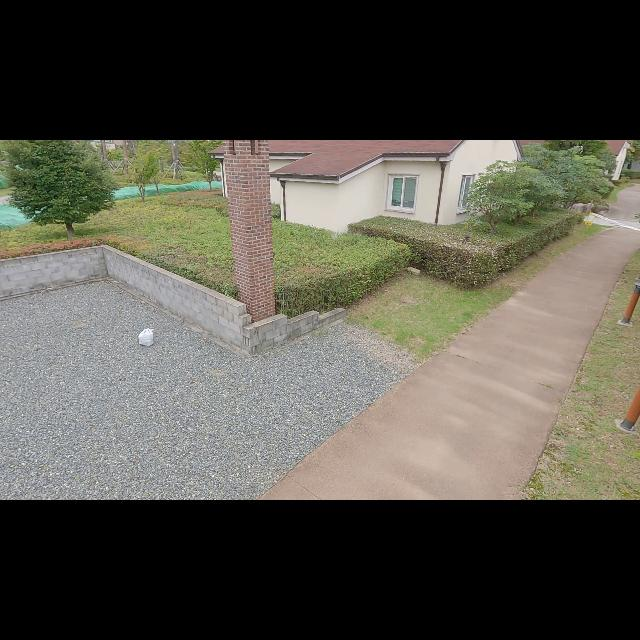trash: (137, 327, 155, 347)
